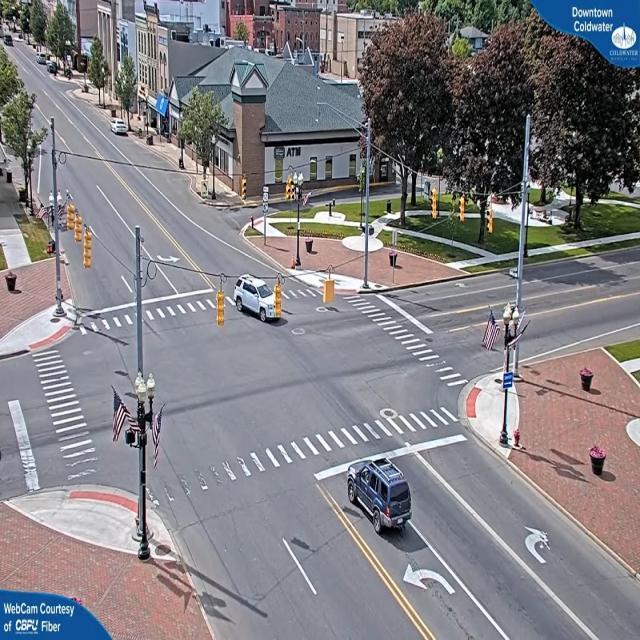car: (347, 457, 413, 534), (235, 276, 277, 323), (111, 120, 129, 136)
